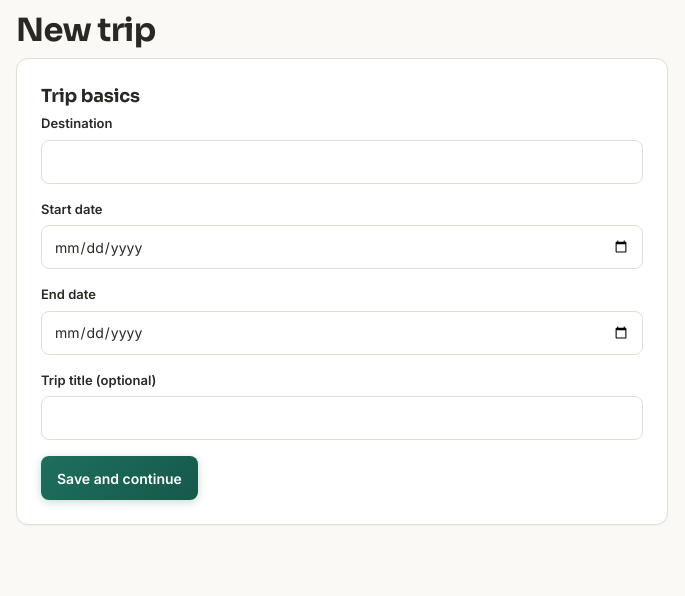
Test: TripWizardPage › shows a safe validation error without crashing
This screenshot has width=685, height=596.
Expected: the field labelled "Destination" is shown, [41,140,643,184]
Click the button "Save and continue".
click(119, 478)  # box [41,456,198,500]
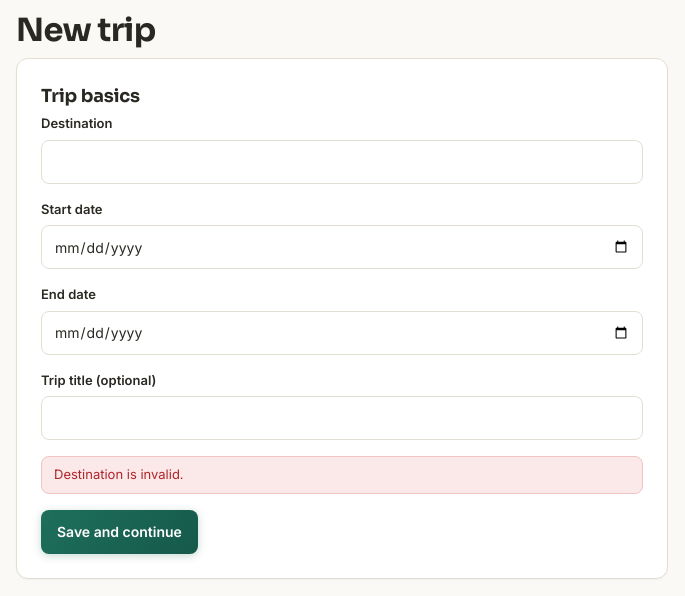
Expected: the message shows "Destination is invalid", [54,466,184,482]
